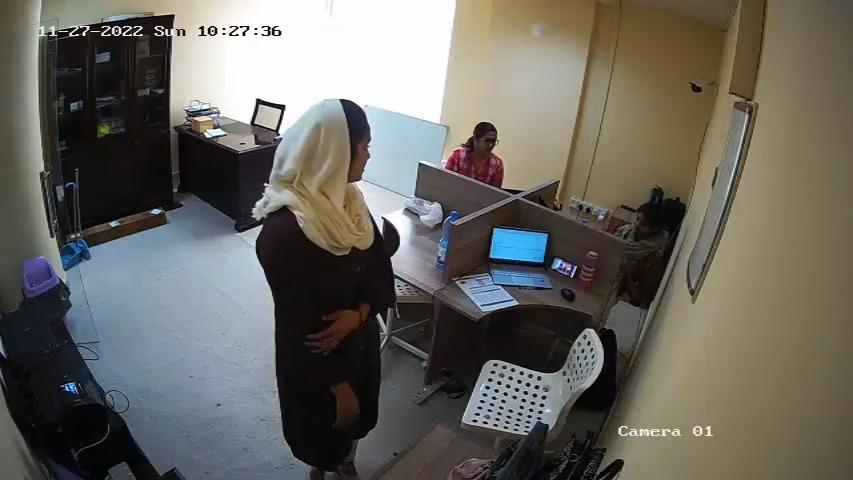no_apron: (270, 203, 397, 303)
